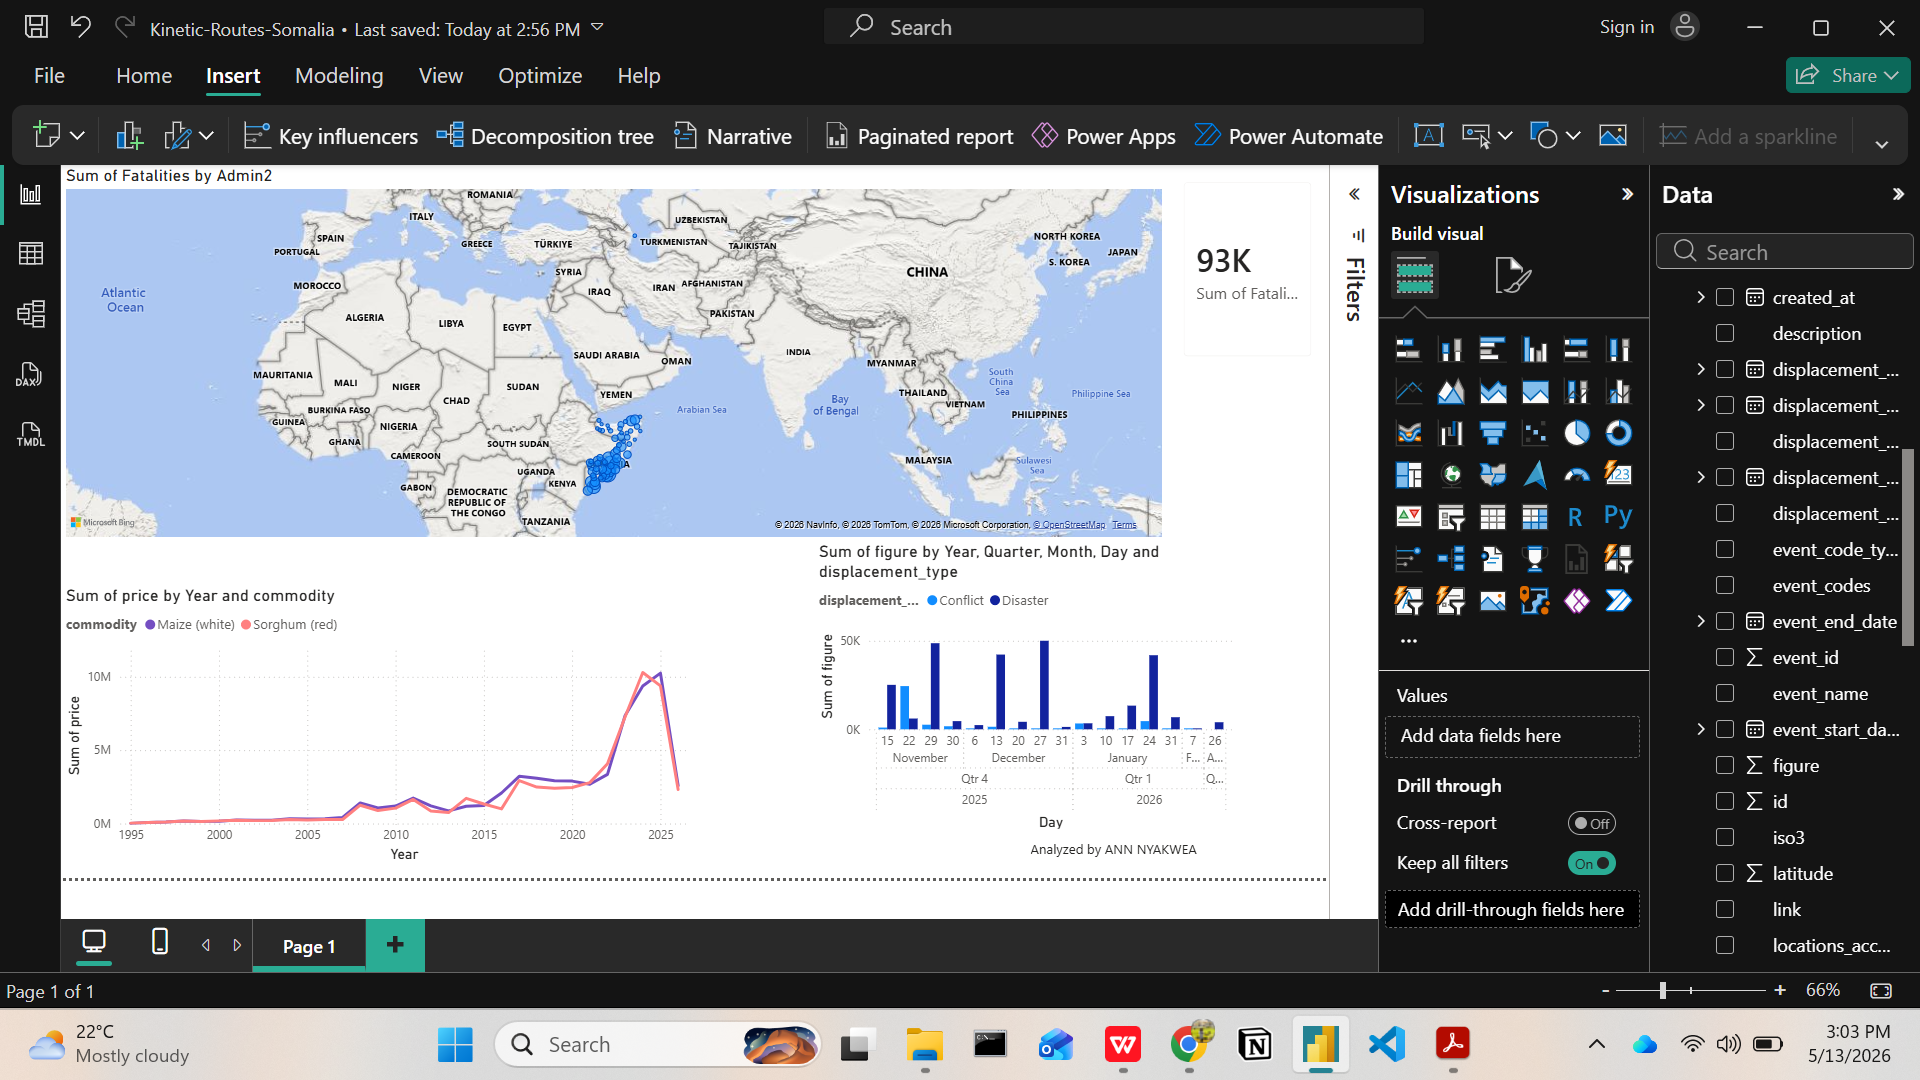

What the dashboard file says about the page in this screenshot:
{"tool":"powerbi","page":{"name":"Page 1","canvas":[1280,720],"ordinal":0},"visuals":[{"type":"map","fields":{"Category":["Data.Admin2"],"Size":["Sum(Data.Fatalities)"]},"box":[0,0,759.7,423.3],"z":0},{"type":"lineChart","fields":{"Category":["wfp_food_prices_som.date.Variation.Date Hierarchy.Year","wfp_food_prices_som.date.Variation.Date Hierarchy.Quarter","wfp_food_prices_som.date.Variation.Date Hierarchy.Month","wfp_food_prices_som.date.Variation.Date Hierarchy.Day"],"Y":["Sum(wfp_food_prices_som.price)"],"Series":["wfp_food_prices_som.commodity"]},"box":[0,423.3,640.6,283.5],"z":1000},{"type":"cardVisual","fields":{"Data":["Sum(Data.Fatalities)"]},"box":[760,0,427,423],"z":1001},{"type":"clusteredColumnChart","fields":{"Y":["Sum(event_data_som.figure)"],"Category":["event_data_som.displacement_date.Variation.Date Hierarchy.Year","event_data_som.displacement_date.Variation.Date Hierarchy.Quarter","event_data_som.displacement_date.Variation.Date Hierarchy.Month","event_data_som.displacement_date.Variation.Date Hierarchy.Day"],"Series":["event_data_som.displacement_type"]},"box":[760,423,427,283],"z":1002}]}

Visuals, with their boxes on the page's 1280x720 design canvas (x1, y1, x2, y2). These are canvas units, not pixel positions in the 1920x1080 screenshot, which may show the page scaled, cropped or inside an application window:
map - Data.Admin2 x Sum(Data.Fatalities): bbox(0, 0, 760, 423)
lineChart - wfp_food_prices_som.date.Variation.Date Hierarchy.Year x wfp_food_prices_som.date.Variation.Date Hierarchy.Quarter: bbox(0, 423, 641, 707)
cardVisual - Sum(Data.Fatalities): bbox(760, 0, 1187, 423)
clusteredColumnChart - Sum(event_data_som.figure) x event_data_som.displacement_date.Variation.Date Hierarchy.Year: bbox(760, 423, 1187, 706)
